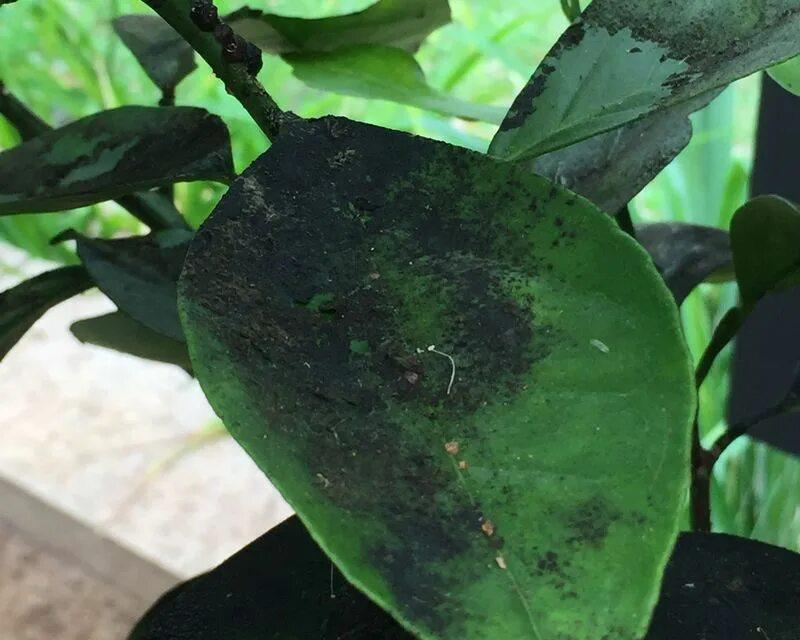soot dew: (181, 111, 565, 633), (499, 0, 799, 128), (526, 83, 731, 223), (0, 107, 235, 210), (566, 494, 620, 550), (533, 548, 576, 601)
